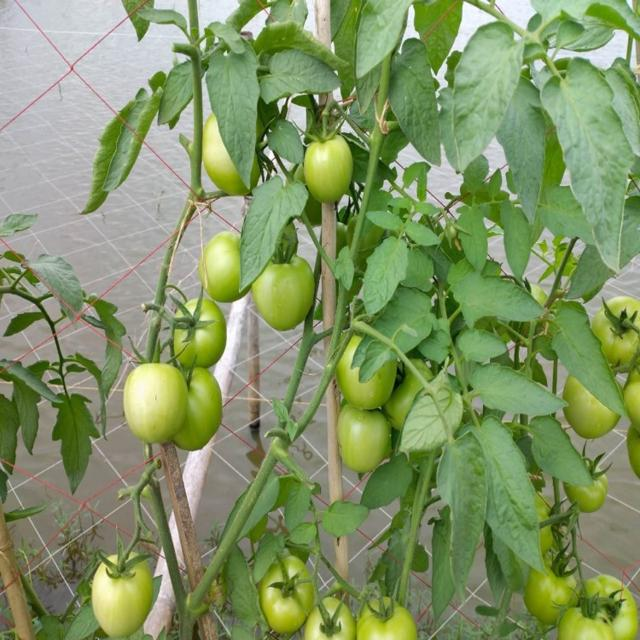tomato: (94, 550, 151, 640), (257, 260, 319, 337), (173, 368, 224, 451), (129, 362, 179, 443), (338, 406, 396, 473), (173, 297, 224, 367), (268, 558, 316, 631), (302, 137, 350, 201), (594, 575, 640, 639), (530, 558, 577, 619), (566, 384, 614, 441), (598, 300, 640, 363), (200, 124, 236, 192), (359, 594, 411, 640), (206, 236, 245, 297), (337, 358, 385, 403), (306, 601, 356, 640), (384, 364, 420, 418), (560, 607, 616, 640), (568, 471, 610, 511), (622, 372, 640, 409), (631, 427, 640, 485)
